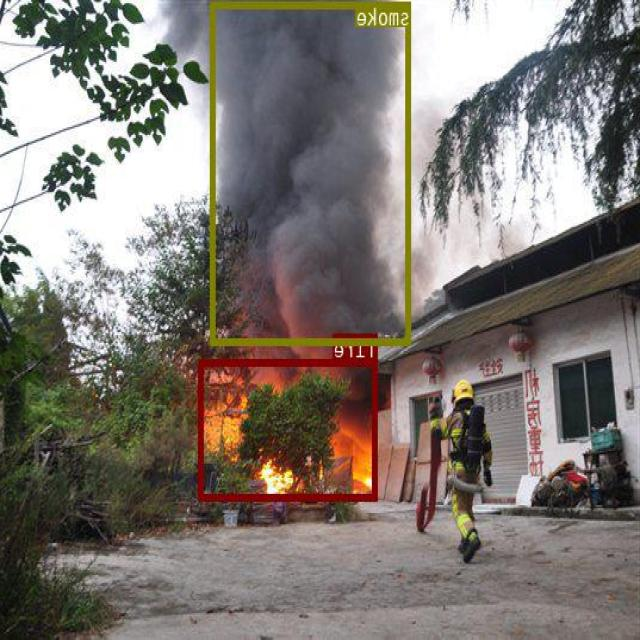fire: (199, 358, 379, 500)
smoke: (212, 0, 412, 344)
